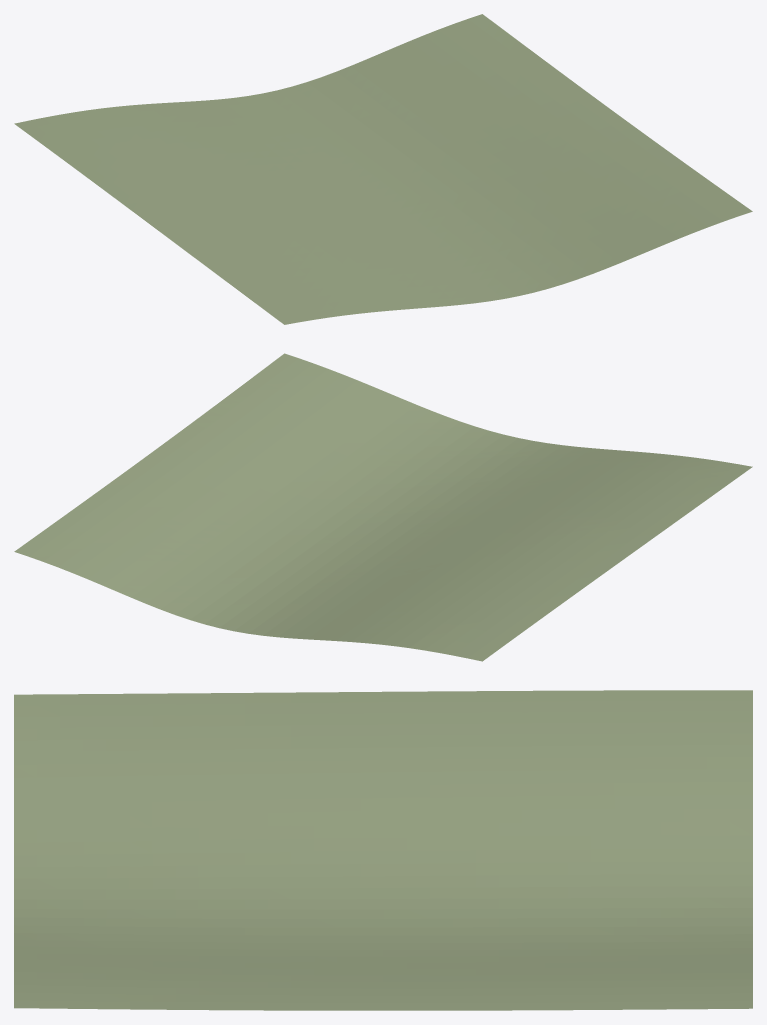
The model's file is desert-13-8.glb.
The picture shows the model from 3 angles, top to bottom: view 1: azimuth 30°, elevation 25°; view 2: azimuth 150°, elevation 25°; view 3: azimuth 270°, elevation 25°; orthographic projection. The views are drawn at different scales.
Parts seen in each view (by area): view 1: desert-13-8; view 2: desert-13-8; view 3: desert-13-8.
Part boxes in pixels (x1,y1,x2,y2): desert-13-8: (14, 14, 752, 324); desert-13-8: (14, 353, 752, 661); desert-13-8: (14, 690, 752, 1010).
Bounding box in the file's own units: 512 × 33.46 × 512.
